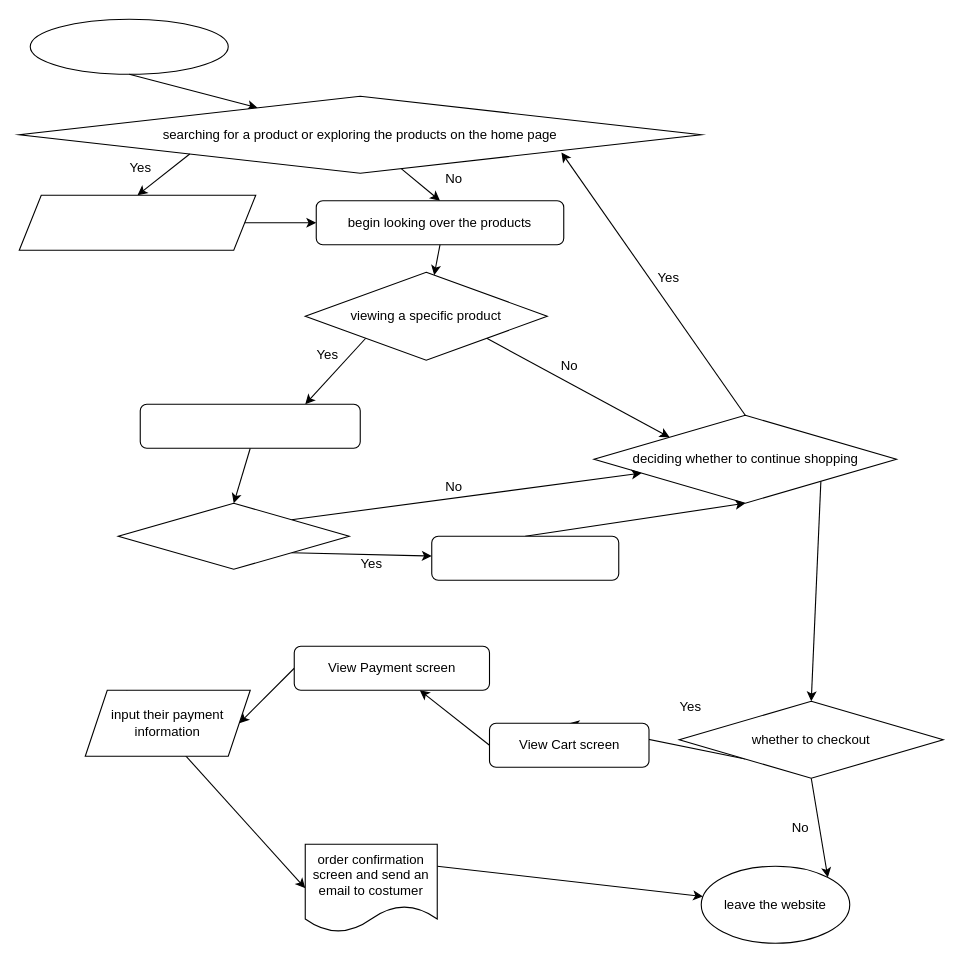
The diagram is 963 pixels wide and 963 high, and some of its shapes have lost their labels. The shapes that lost their labels are listed below. From the top down, each one's centre as x and y in pixels, then its label:
At point (128, 46): "Entering the website".
At point (137, 222): "input to the website of their search".
At point (249, 425): "product’s webpage will open".
At point (233, 535): "add this item to their cart".
At point (525, 557): "added to cart confirmation first".
